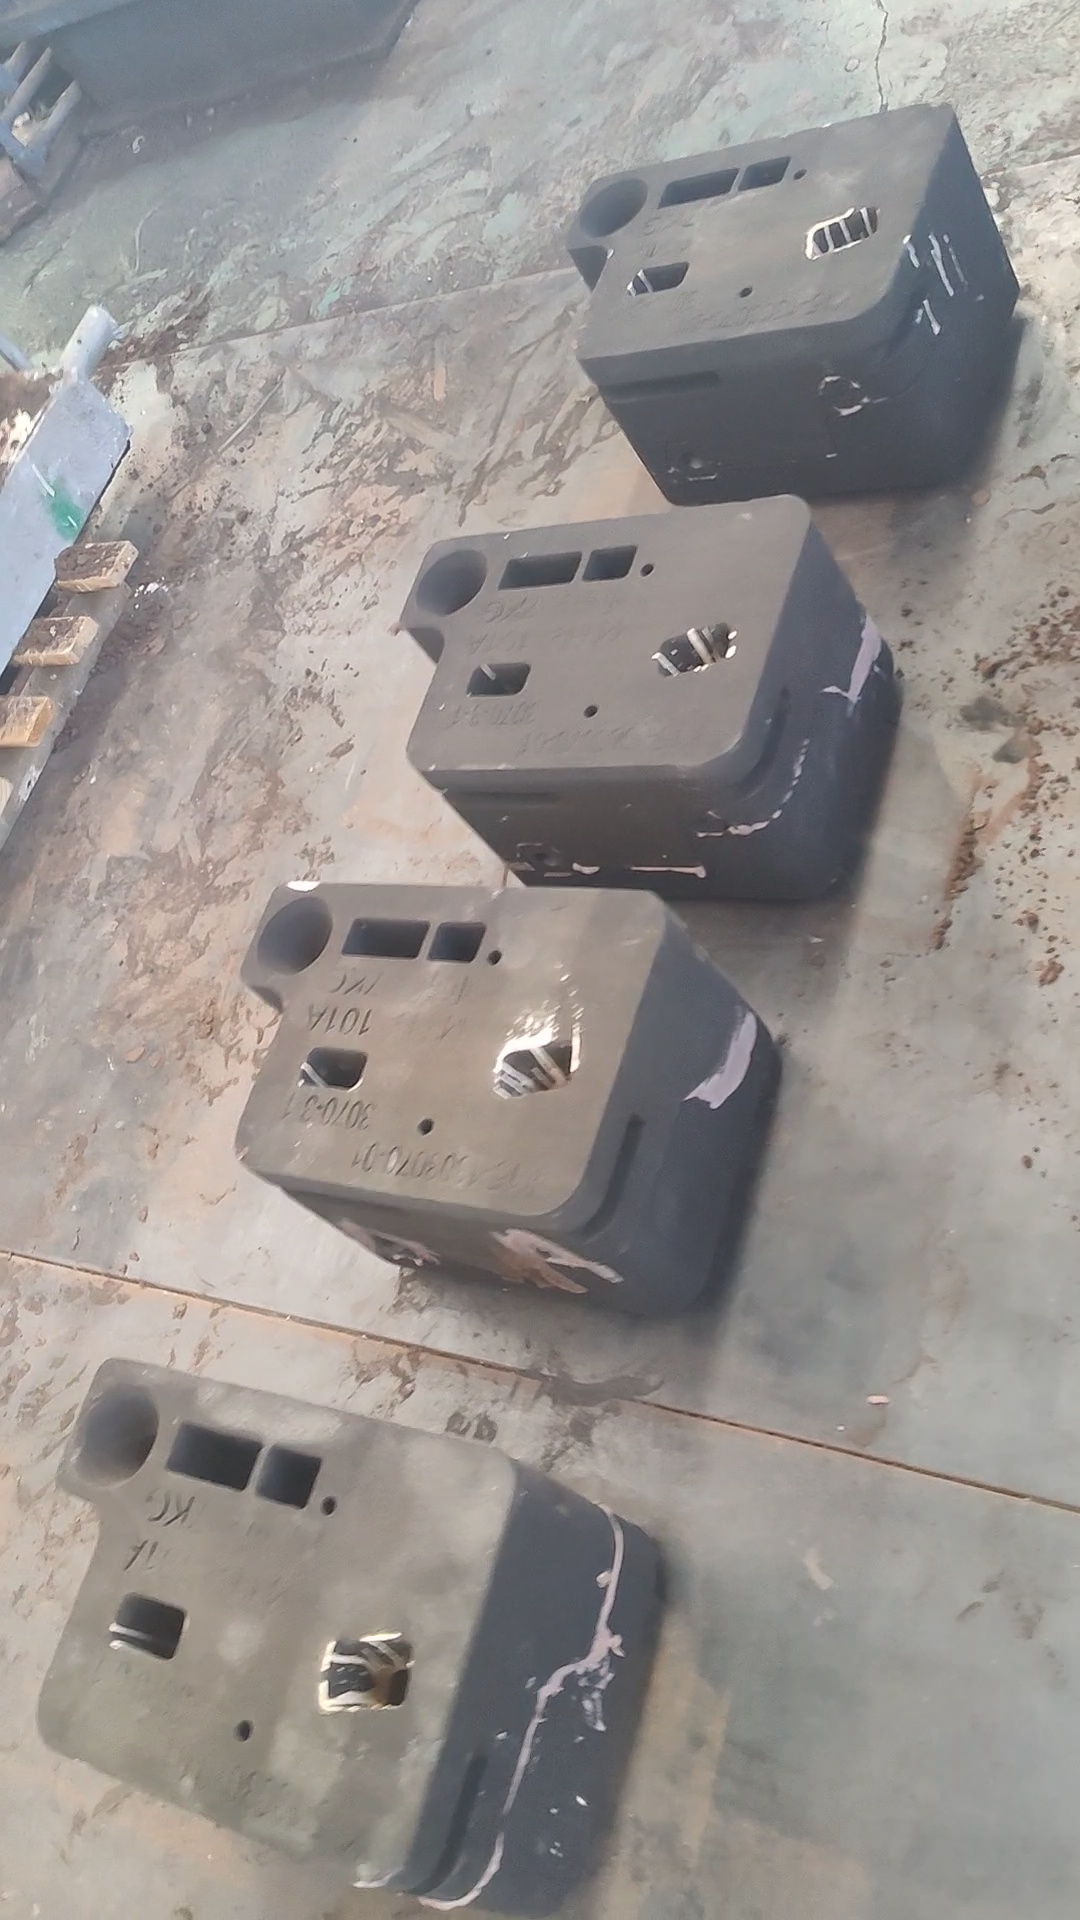pouring hole: (65, 1382, 160, 1486), (257, 895, 334, 976), (415, 549, 488, 616), (579, 177, 649, 237)
